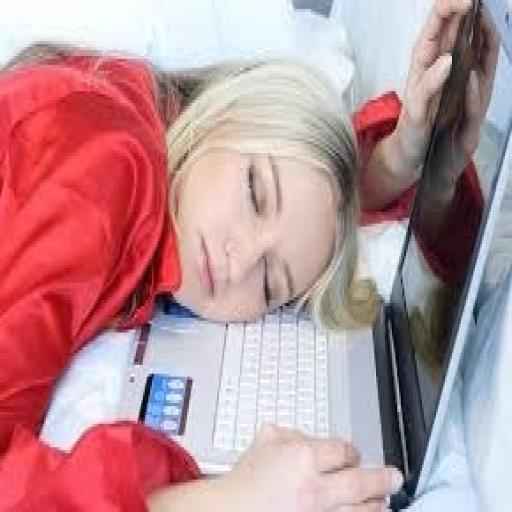sleeping: (0, 3, 501, 506)
